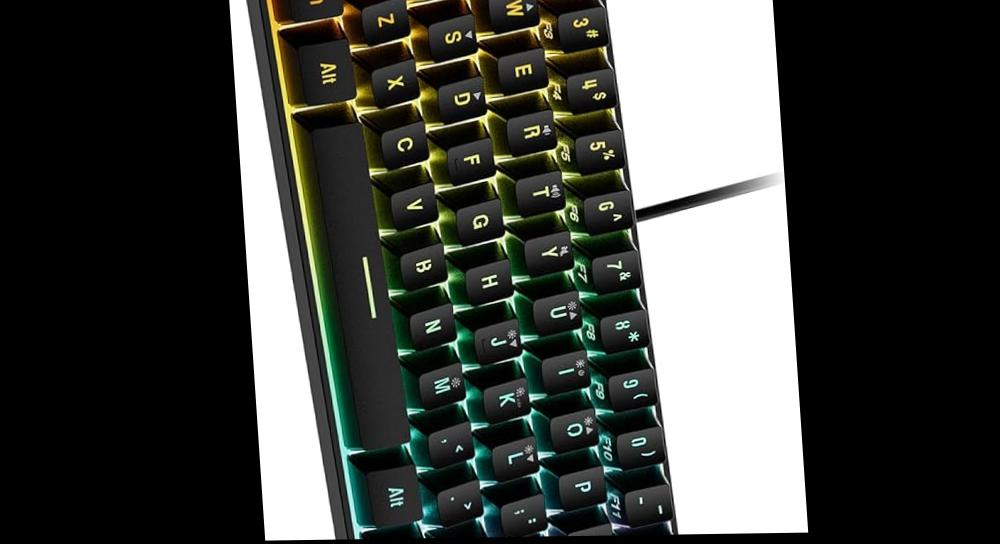keyboard: (228, 0, 689, 541)
